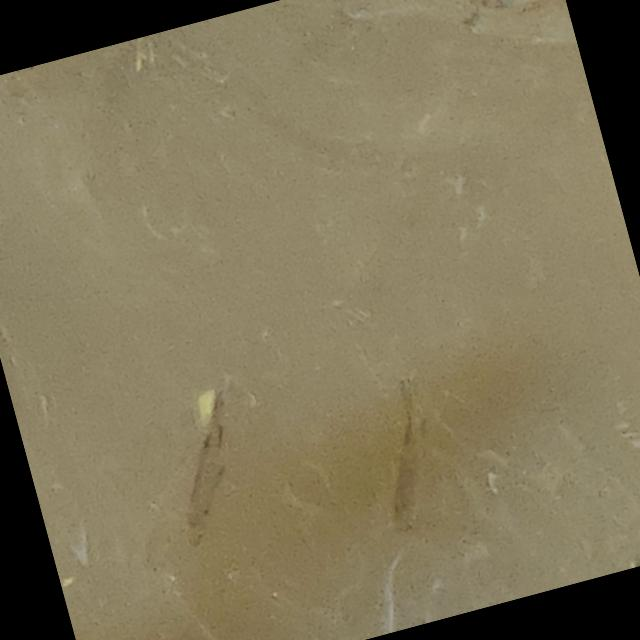Sivrisinek Baligi: (142, 378, 278, 552), (347, 367, 468, 542), (341, 547, 436, 640)
